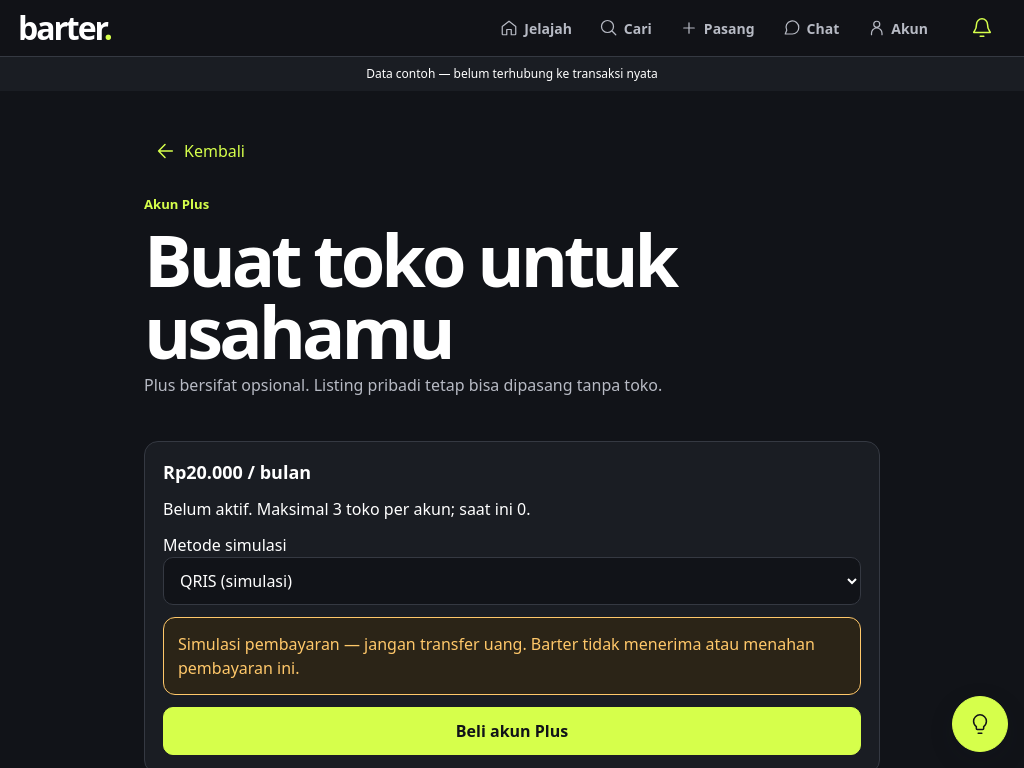
it: Plus page › activates Plus after the user taps Beli akun Plus
The image size is (1024, 768).
Click the button "Beli akun Plus": (512, 731) x1=163 y1=707 x2=861 y2=755
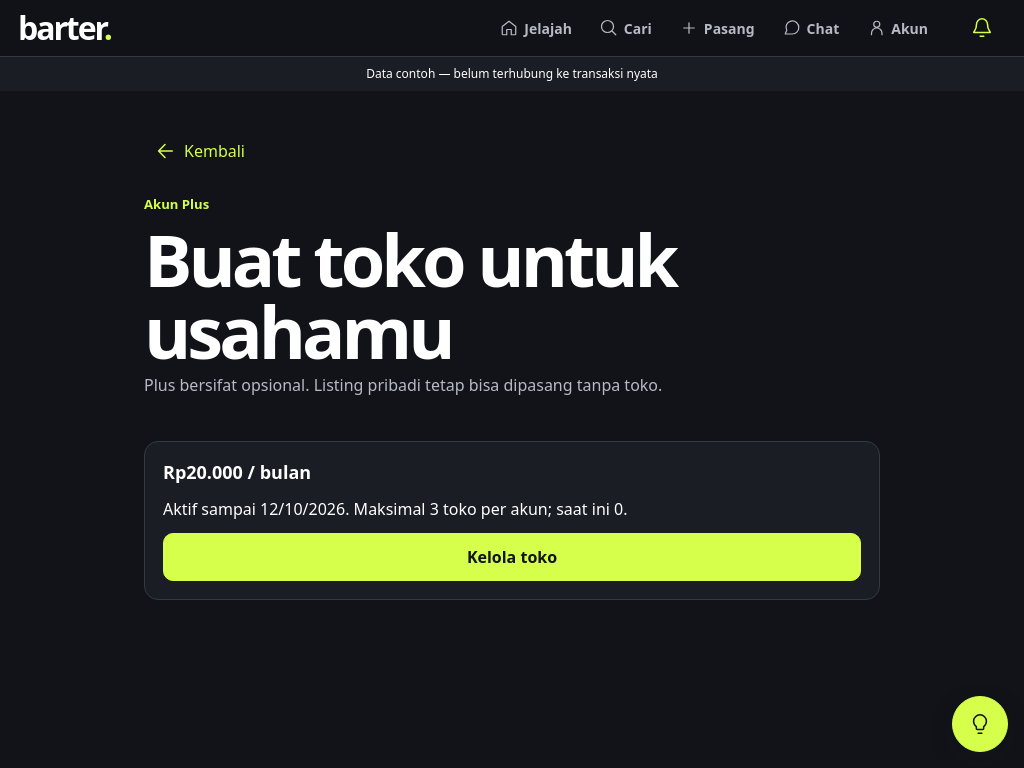
Expected: the text "Aktif sampai" is shown, x1=163 y1=498 x2=350 y2=520
